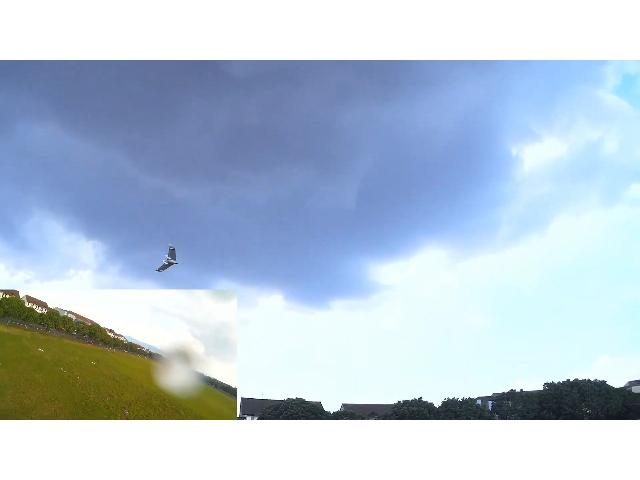Anti-Drone: (155, 244, 179, 272)
